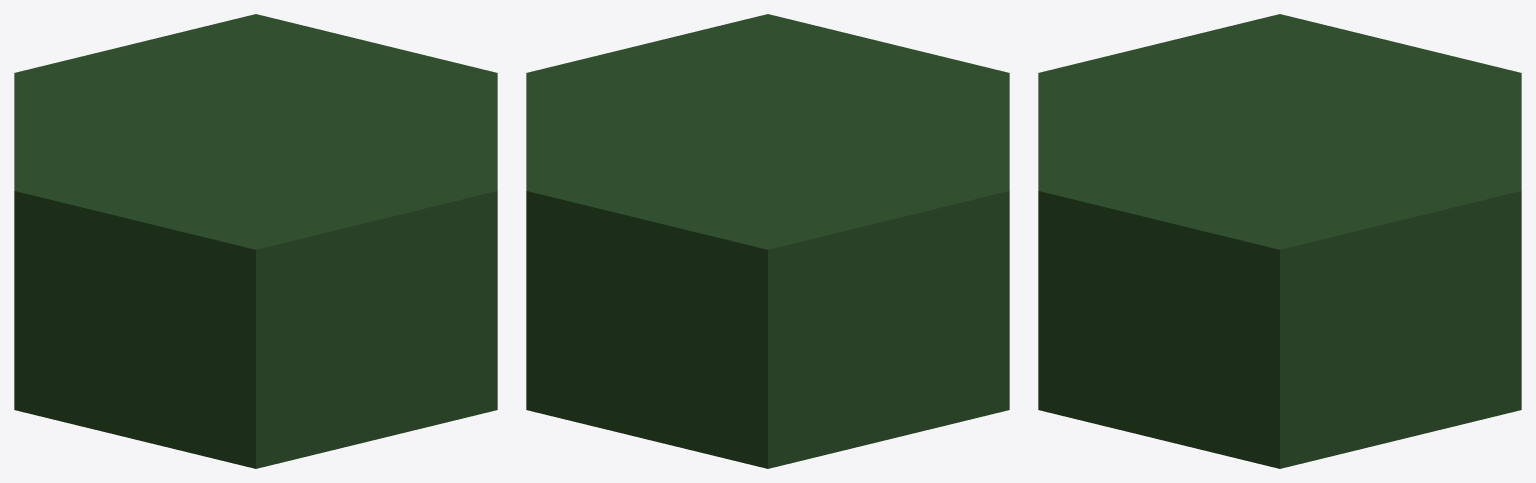
File: hex_19_forest_forest_forest_forest_forest_forest.glb
3 renders of one model, left to right at view 1: azimuth 30°, elevation 25°; view 2: azimuth 150°, elevation 25°; view 3: azimuth 270°, elevation 25°, orthographic.
Visible parts, largest first — view 1: hex_19_forest_forest_forest_forest_forest_forest; view 2: hex_19_forest_forest_forest_forest_forest_forest; view 3: hex_19_forest_forest_forest_forest_forest_forest.
Boxes of the visible parts, x1,y1,x2,y2 form: hex_19_forest_forest_forest_forest_forest_forest: [14, 14, 497, 468]; hex_19_forest_forest_forest_forest_forest_forest: [526, 14, 1009, 468]; hex_19_forest_forest_forest_forest_forest_forest: [1038, 14, 1521, 468].
Bounding box in the file's own units: 1.15 × 0.5 × 0.9994.
